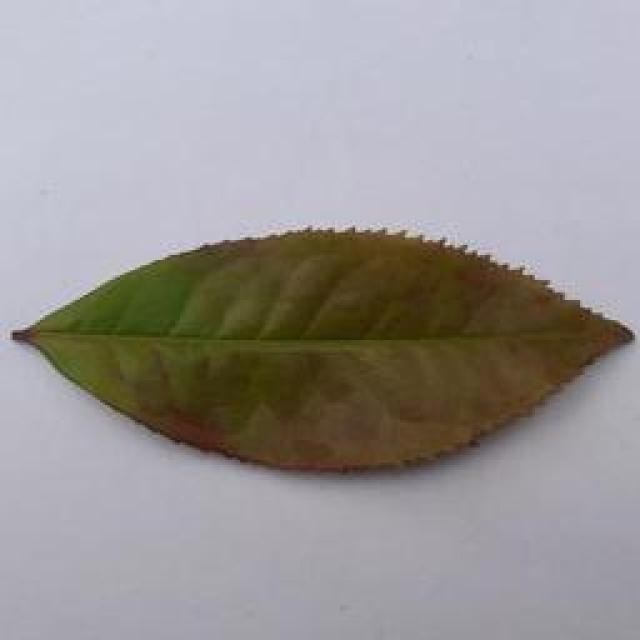Red Leaf Spot: (14, 212, 640, 484)
